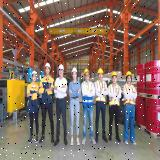Helmet: (111, 71, 118, 80), (31, 70, 38, 79), (72, 67, 78, 75), (58, 64, 64, 72), (45, 62, 51, 70), (126, 71, 132, 78), (98, 68, 104, 75), (84, 68, 89, 74)
Vest: (82, 80, 93, 108), (109, 84, 120, 107), (95, 80, 106, 102), (124, 85, 135, 106)
